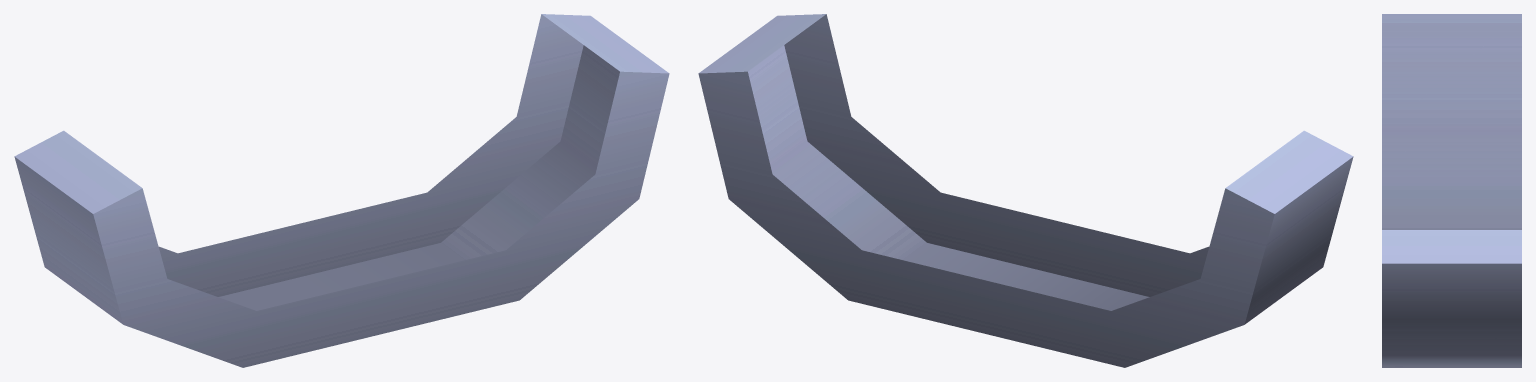
File: coaster-flume-segment.glb
3 renders of one model, left to right at view 1: azimuth 30°, elevation 25°; view 2: azimuth 150°, elevation 25°; view 3: azimuth 270°, elevation 25°, orthographic. The views are drawn at different scales.
Parts seen in each view (by area): view 1: coaster-flume-segment; view 2: coaster-flume-segment; view 3: coaster-flume-segment.
Boxes of the visible parts, <box> form: coaster-flume-segment: <box>14,14,669,367</box>; coaster-flume-segment: <box>698,14,1353,367</box>; coaster-flume-segment: <box>1382,14,1521,367</box>.
Size of the model in its own units: 0.8446 by 0.286 by 0.2.
Materials: 1 (1 with a texture image).
